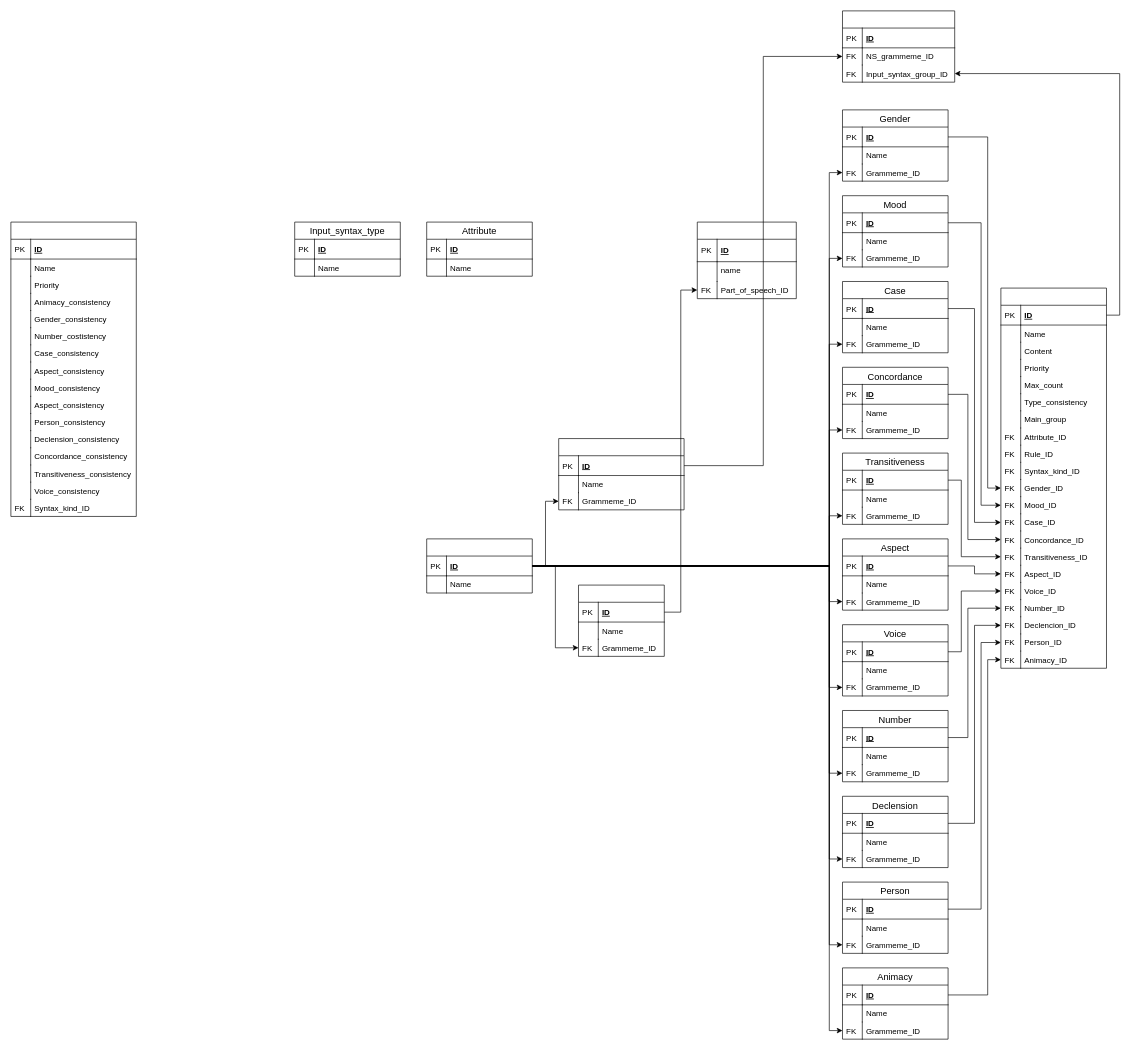
This 1131x1050 diagram has some shape labels left out. Here are the shapes that lost their labels. From the top down, the box of each, then its label:
(842, 10, 955, 82): Group_of_grammeme
(697, 221, 796, 299): Syntax_kind
(10, 221, 136, 516): Rule
(558, 438, 684, 510): Nonstandard_grammeme
(1000, 287, 1106, 668): Input_syntax_group
(426, 538, 532, 593): Grammeme
(578, 584, 664, 656): Part_of_speech
